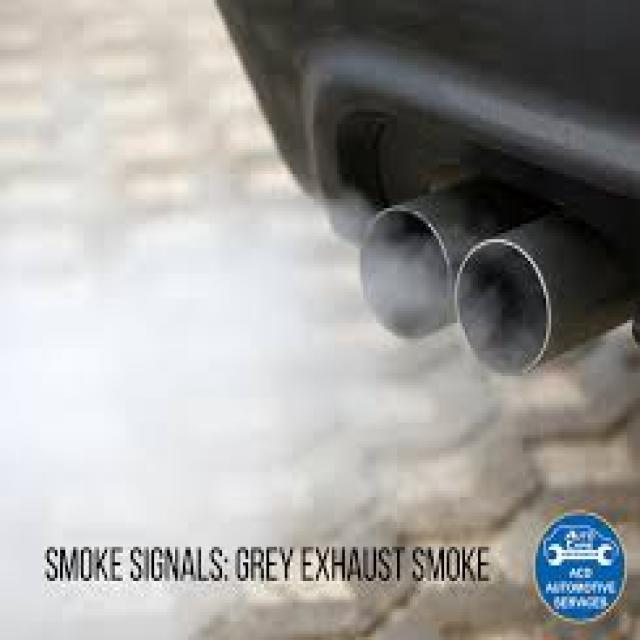Smoke: (0, 157, 565, 640)
